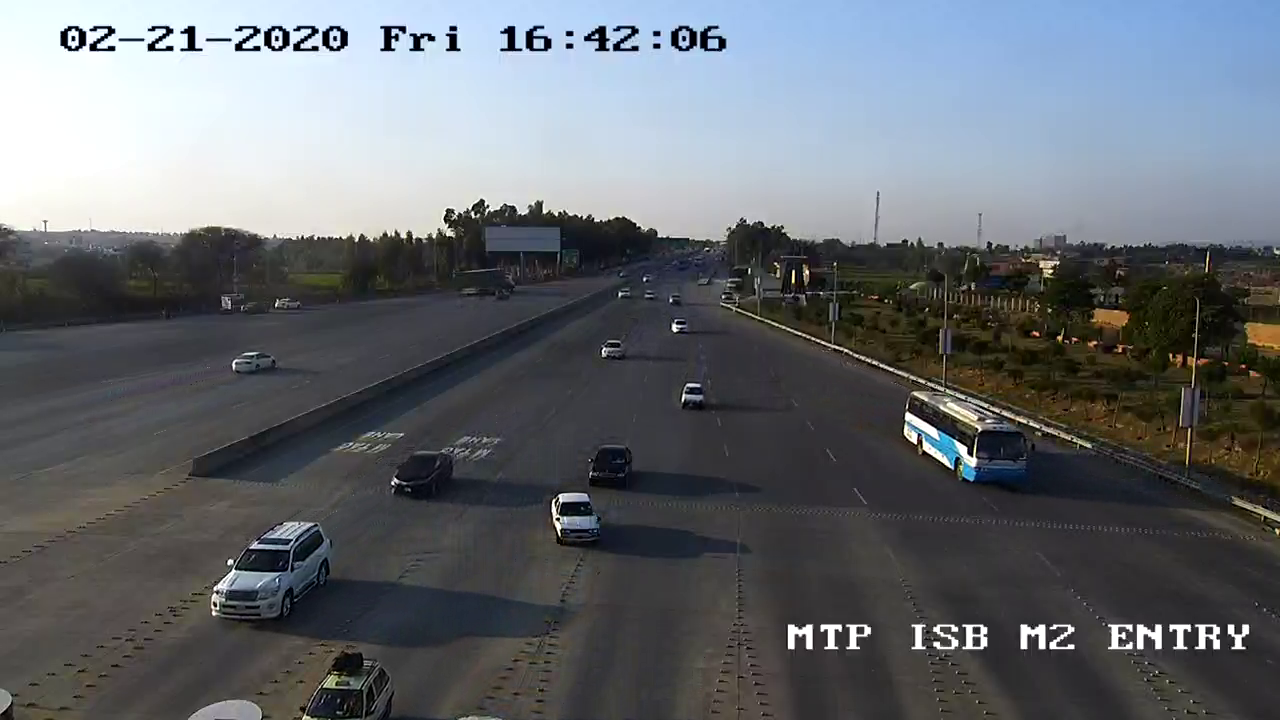f1: (199, 512, 337, 630), (385, 443, 460, 506), (546, 484, 605, 552)
f4: (892, 383, 1043, 497)
